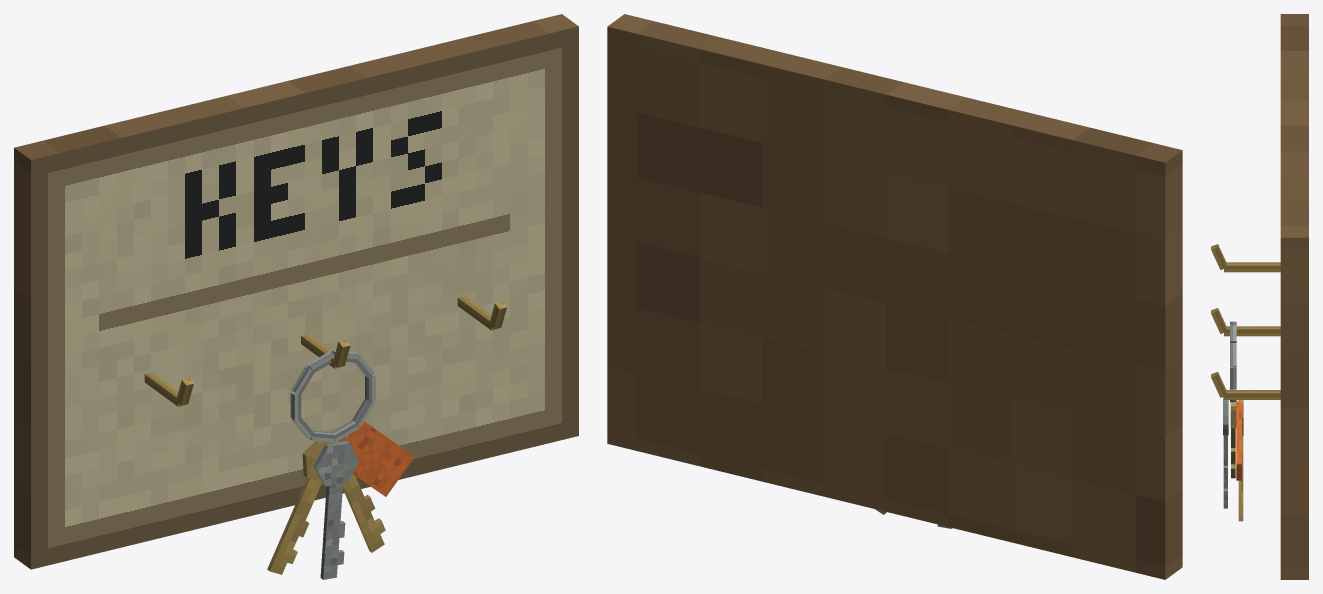
Rendered from pickup_keys.glb.
3 views of the same model, side by side, from view 1: azimuth 30°, elevation 25°; view 2: azimuth 150°, elevation 25°; view 3: azimuth 270°, elevation 25° (orthographic). The views are drawn at different scales.
Visible parts, largest first — view 1: Rack, Tool; view 2: Rack; view 3: Rack, Tool.
Boxes of the visible parts, left/top/right/bottom form: Rack: left=14, top=14, right=578, bottom=569; Tool: left=267, top=350, right=414, bottom=579; Rack: left=607, top=14, right=1182, bottom=579; Rack: left=1211, top=14, right=1308, bottom=579; Tool: left=1223, top=321, right=1243, bottom=521.
Bounding box in the file's own units: 0.28 × 0.2241 × 0.0518.
Materials: 5 (5 with a texture image).
